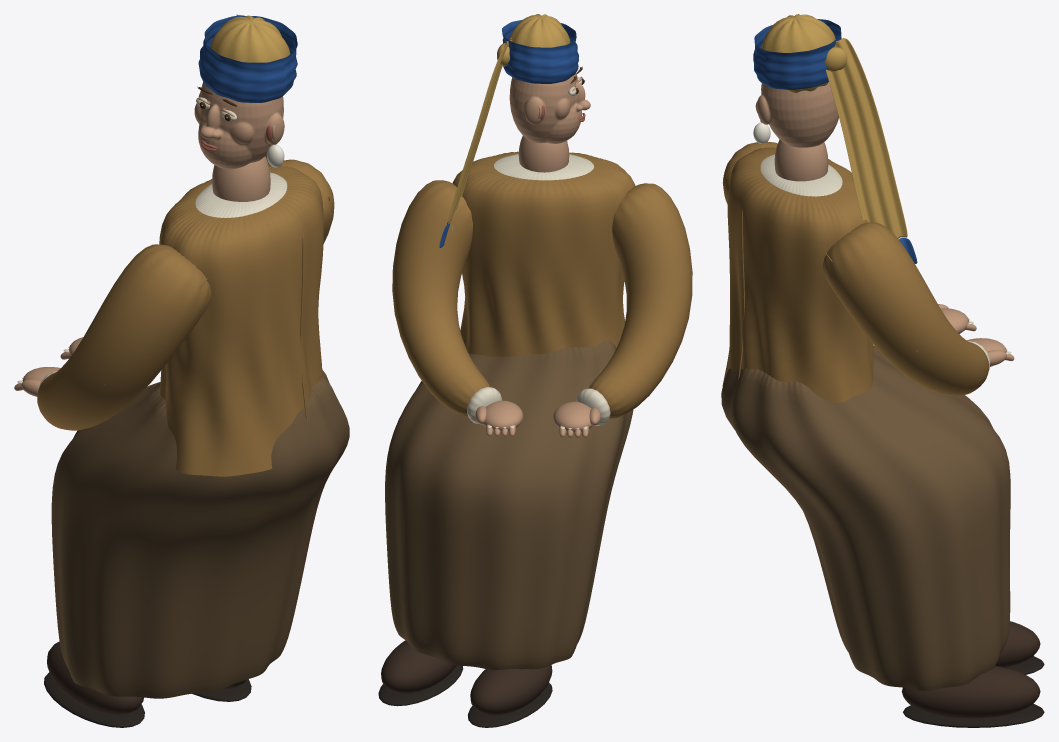
Rendered from seated-person-only.glb.
The picture shows the model from 3 angles, left to right: view 1: azimuth 30°, elevation 25°; view 2: azimuth 150°, elevation 25°; view 3: azimuth 270°, elevation 25°; orthographic projection. The views are drawn at different scales.
Parts seen in each view (by area): view 1: Seated skirt with draped folds, Loose ochre bodice, Left loose sleeve, Unified stylized face and head, Blue turban wrap, Golden headcloth crown, Leather shoe, Neck, White linen neckline, Shoe sole, Right loose sleeve, Shoe sole.001; view 2: Seated skirt with draped folds, Loose ochre bodice, Left loose sleeve, Right loose sleeve, Unified stylized face and head, Leather shoe, Blue turban wrap, Leather shoe.001, Golden headcloth crown, Neck, White linen neckline, Golden hanging scarf (+6 smaller); view 3: Seated skirt with draped folds, Loose ochre bodice, Right loose sleeve, Golden hanging scarf, Leather shoe.001, Unified stylized face and head, Blue turban wrap, Golden headcloth crown, Neck, Shoe sole.001, White linen neckline, Leather shoe (+1 smaller).
Boxes of the visible parts, x1,y1,x2,y2 form: Seated skirt with draped folds: (51,370,349,698); Loose ochre bodice: (159,165,323,476); Left loose sleeve: (37,244,211,430); Unified stylized face and head: (194,82,284,169); Blue turban wrap: (198,15,297,102); Golden headcloth crown: (210,15,290,62); Leather shoe: (47,641,143,715); Neck: (212,156,270,201); White linen neckline: (195,172,287,217); Shoe sole: (44,672,144,727); Right loose sleeve: (280,159,334,243); Shoe sole.001: (192,679,251,701); Seated skirt with draped folds: (385,340,633,670); Loose ochre bodice: (452,151,635,356); Left loose sleeve: (589,183,692,418); Right loose sleeve: (392,180,490,416); Unified stylized face and head: (509,73,590,143); Leather shoe: (470,665,552,715); Blue turban wrap: (502,20,578,83); Leather shoe.001: (381,640,456,693); Golden headcloth crown: (509,14,570,81); Neck: (518,136,569,172); White linen neckline: (494,154,593,180); Golden hanging scarf: (448,38,512,223); Seated skirt with draped folds: (721,345,1010,690); Loose ochre bodice: (722,147,873,402); Right loose sleeve: (822,222,988,395); Golden hanging scarf: (820,38,907,238); Leather shoe.001: (901,666,1040,718); Unified stylized face and head: (757,82,838,147); Blue turban wrap: (753,19,841,89); Golden headcloth crown: (761,14,835,92); Neck: (774,139,828,181); Shoe sole.001: (903,704,1044,727); White linen neckline: (760,154,842,196); Leather shoe: (995,621,1040,667).
Size of the model in its own units: 0.6067 by 1.46 by 0.629.
